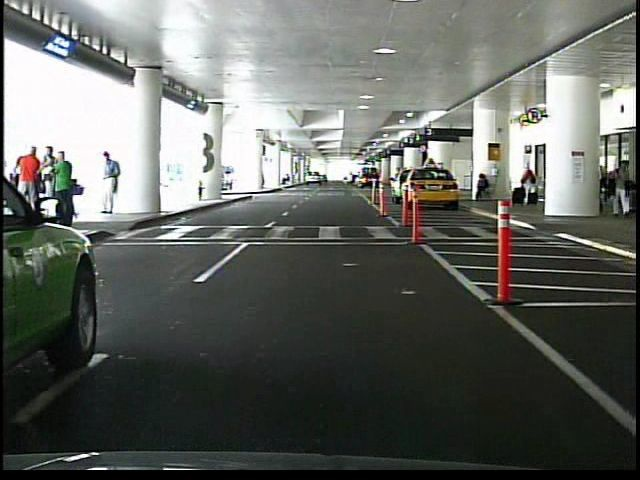person: (55, 151, 80, 231), (21, 146, 45, 222), (100, 151, 124, 217), (607, 155, 632, 218), (46, 144, 61, 212), (521, 160, 538, 207), (474, 171, 493, 202)
